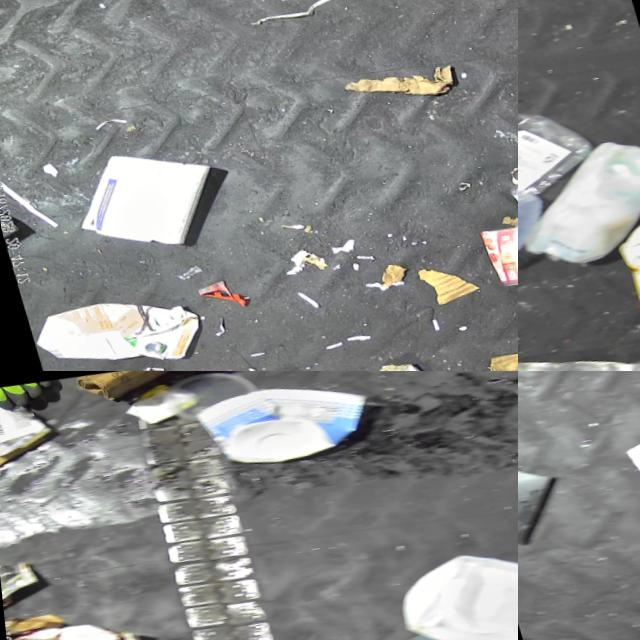can: (518, 319, 640, 371), (595, 193, 640, 290), (468, 206, 518, 287), (496, 152, 518, 226)
milk_jug: (518, 114, 640, 274), (377, 512, 518, 640)
non_white_jug: (14, 281, 200, 371)
plastic_bottle: (518, 85, 609, 245)
